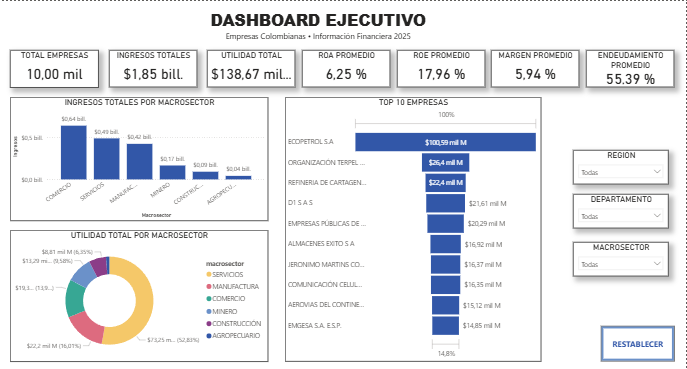

Layout of this report page (visuals, bound fields, positions):
{"tool":"powerbi","page":{"name":"Informe Ejecutivo","canvas":[1400,750],"ordinal":0},"visuals":[{"type":"card","title":"TOTAL EMPRESAS","fields":{"Values":["CountNonNull(vw_finanzas_empresa.razon_social)"]},"box":[19.5,99.3,180.7,76.5],"z":0},{"type":"card","title":"INGRESOS TOTALES","fields":{"Values":["Sum(vw_finanzas_empresa.ingresos_2025)"]},"box":[222.6,99.1,179.9,76.2],"z":1000},{"type":"card","title":"UTILIDAD TOTAL","fields":{"Values":["Sum(vw_finanzas_empresa.utilidad_2025)"]},"box":[422.3,99.1,179.9,76.2],"z":2000},{"type":"card","title":"ROA PROMEDIO","fields":{"Values":["vw_finanzas_empresa.ROA promedio"]},"box":[615.9,99.1,179.9,76.2],"z":3000},{"type":"card","title":"ROE PROMEDIO","fields":{"Values":["vw_finanzas_empresa.ROE promedio"]},"box":[809.5,99.1,179.9,76.2],"z":4000},{"type":"card","title":"MARGEN PROMEDIO","fields":{"Values":["vw_finanzas_empresa.Margen Promedio"]},"box":[1003,99.1,179.9,76.2],"z":5000},{"type":"card","title":"ENDEUDAMIENTO PROMEDIO","fields":{"Values":["vw_finanzas_empresa.Promedio endeudamiento"]},"box":[1196.6,99.1,179.9,76.2],"z":6000},{"type":"clusteredColumnChart","title":"INGRESOS TOTALES POR MACROSECTOR","fields":{"Category":["vw_finanzas_empresa.macrosector"],"Y":["Sum(vw_finanzas_empresa.ingresos_2025)"]},"box":[19.5,196.1,526.8,253.2],"z":7000},{"type":"donutChart","title":"UTILIDAD TOTAL POR MACROSECTOR","fields":{"Category":["vw_finanzas_empresa.macrosector"],"Y":["Sum(vw_finanzas_empresa.utilidad_2025)"]},"box":[19.5,466.8,526.8,269.3],"z":8000},{"type":"funnel","title":"TOP 10 EMPRESAS","fields":{"Category":["vw_finanzas_empresa.razon_social"],"Y":["Sum(vw_finanzas_empresa.ingresos_2025)"]},"box":[580.8,195.1,522.9,539.6],"z":9000},{"type":"slicer","title":"REGIÓN","fields":{"Values":["vw_finanzas_empresa.region"]},"box":[1169.2,304.9,195.1,70.1],"z":10000},{"type":"slicer","title":"DEPARTAMENTO","fields":{"Values":["vw_finanzas_empresa.departamento"]},"box":[1169.2,394.8,195.1,70.1],"z":11000},{"type":"slicer","title":"MACROSECTOR","fields":{"Values":["vw_finanzas_empresa.macrosector"]},"box":[1169.2,490.9,195.1,70.1],"z":12000},{"type":"textbox","box":[0,10.7,1298.8,76.2],"z":13000},{"type":"actionButton","title":"LIMPIAR FILTROS","box":[1225.8,664.2,149.8,71.6],"z":13002}]}

Visuals, with their boxes in screenshot pixels (x1, y1, x2, y2), scaled from the page's 1400x750 canvas onto the 687x369 screenshot:
"TOTAL EMPRESAS" card: 10, 49, 98, 86
"INGRESOS TOTALES" card: 109, 49, 198, 86
"UTILIDAD TOTAL" card: 207, 49, 296, 86
"ROA PROMEDIO" card: 302, 49, 391, 86
"ROE PROMEDIO" card: 397, 49, 486, 86
"MARGEN PROMEDIO" card: 492, 49, 580, 86
"ENDEUDAMIENTO PROMEDIO" card: 587, 49, 675, 86
"INGRESOS TOTALES POR MACROSECTOR" clusteredColumnChart: 10, 96, 268, 221
"UTILIDAD TOTAL POR MACROSECTOR" donutChart: 10, 230, 268, 362
"TOP 10 EMPRESAS" funnel: 285, 96, 542, 361
"REGIÓN" slicer: 574, 150, 669, 184
"DEPARTAMENTO" slicer: 574, 194, 669, 229
"MACROSECTOR" slicer: 574, 242, 669, 276
textbox: 0, 5, 637, 43
"LIMPIAR FILTROS" actionButton: 602, 327, 675, 362
